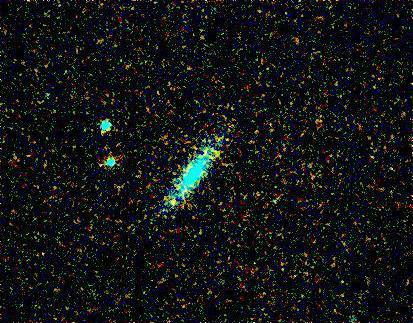star: (157, 188, 187, 218)
